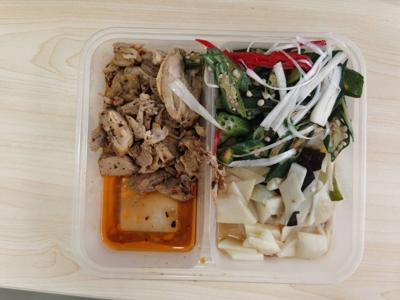j1: (92, 39, 208, 193)
